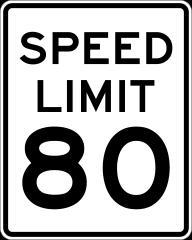Speed Limit -80-: (16, 20, 177, 215)
